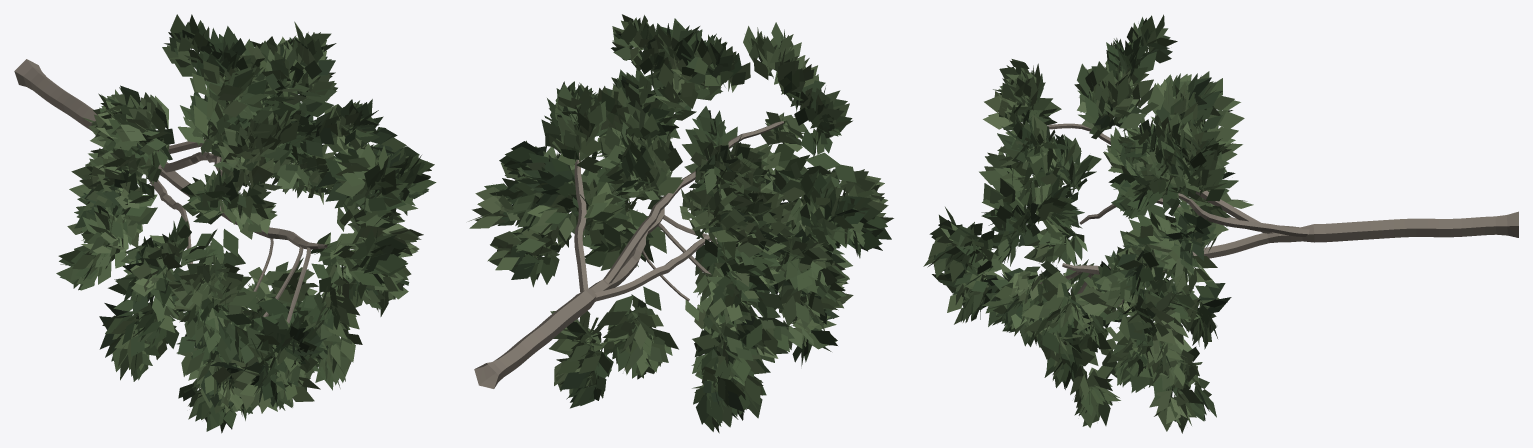
The model's file is tree_mid_01.obj.
3 renders of one model, left to right at view 1: azimuth 30°, elevation 25°; view 2: azimuth 150°, elevation 25°; view 3: azimuth 270°, elevation 25°, orthographic. The views are drawn at different scales.
Visible parts, largest first — view 1: tree_mid_01; view 2: tree_mid_01; view 3: tree_mid_01.
Part boxes in pixels (x1,y1,x2,y2): tree_mid_01: (14, 14, 436, 433); tree_mid_01: (468, 14, 893, 433); tree_mid_01: (923, 14, 1518, 433).
Size of the model in its own units: 0.678 by 0.6967 by 1.01.
Materials: 1 (1 with a texture image).
